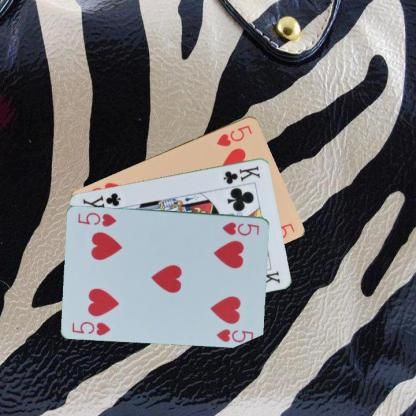5h: (213, 122, 254, 147), (70, 318, 112, 337), (220, 219, 261, 237)
Kc: (221, 163, 262, 185)
